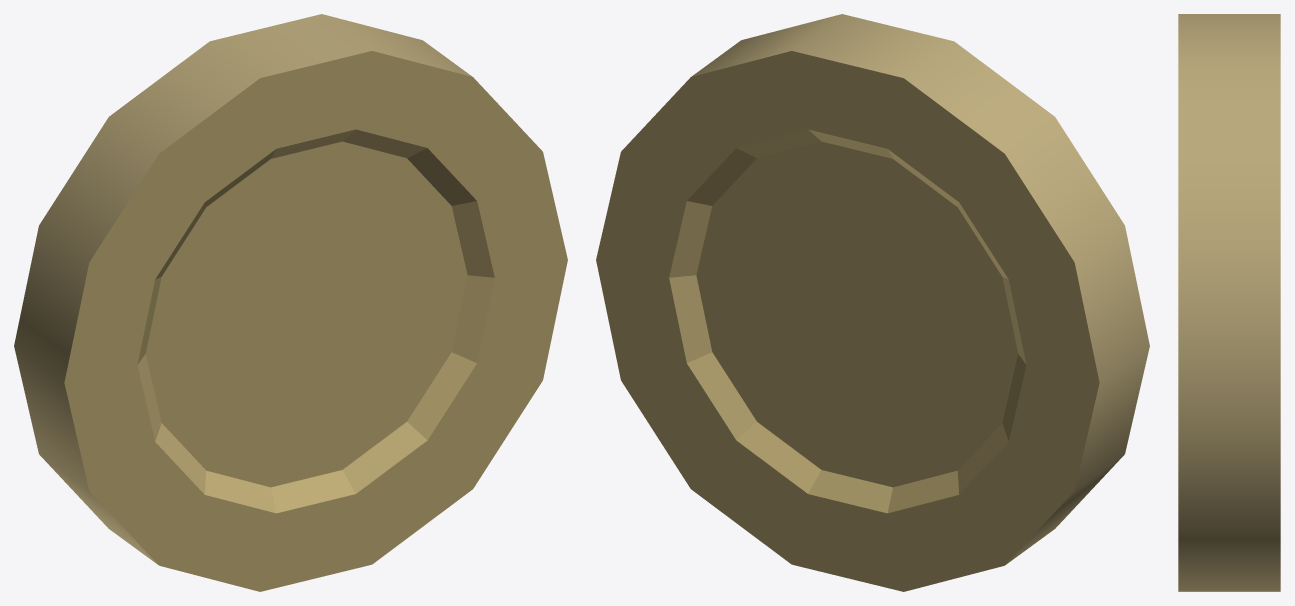
File: coin.glb
3 renders of one model, left to right at view 1: azimuth 30°, elevation 25°; view 2: azimuth 150°, elevation 25°; view 3: azimuth 270°, elevation 25°, orthographic.
Parts seen in each view (by area): view 1: C; view 2: C; view 3: C.
Boxes of the visible parts, left/top/right/bottom form: C: left=14, top=14, right=567, bottom=591; C: left=596, top=14, right=1149, bottom=591; C: left=1178, top=14, right=1280, bottom=591.
Size of the model in its own units: 0.2729 by 0.266 by 0.0473.
